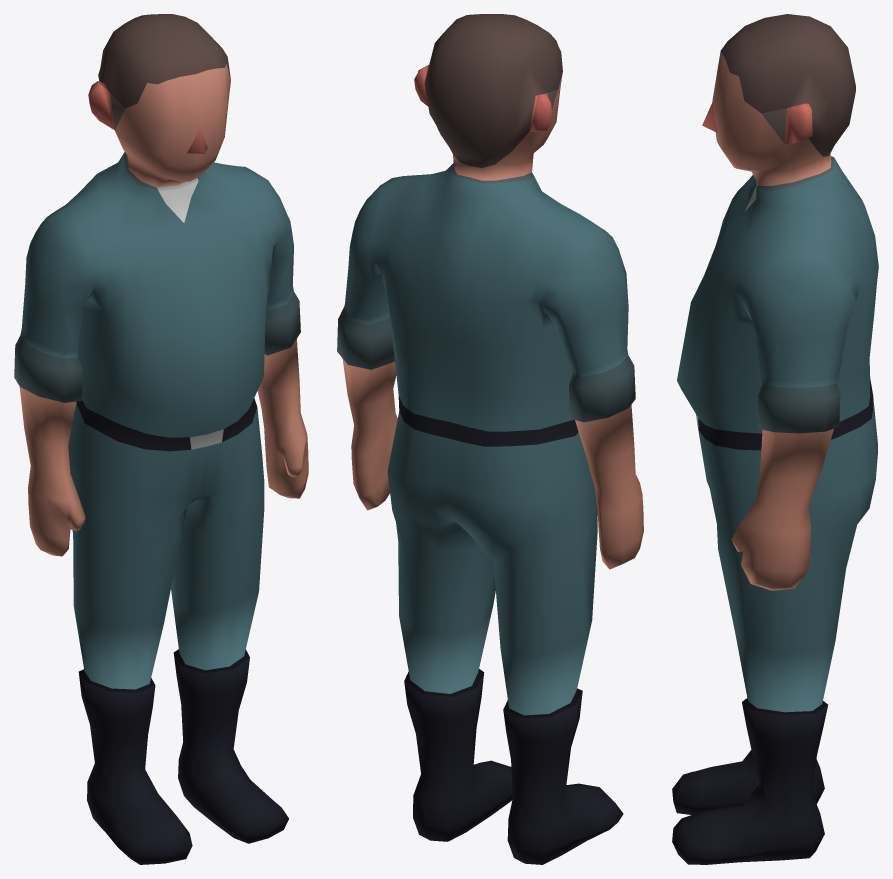
Rendered from CHAR_Worker.fbx.
3 views of the same model, side by side, from view 1: azimuth 30°, elevation 25°; view 2: azimuth 150°, elevation 25°; view 3: azimuth 270°, elevation 25° (orthographic). The views are drawn at different scales.
Visible parts, largest first — view 1: CHAR_Worker; view 2: CHAR_Worker; view 3: CHAR_Worker.
Part boxes in pixels (x1=…): CHAR_Worker: x1=14, y1=14, x2=308, y2=864; CHAR_Worker: x1=337, y1=14, x2=643, y2=864; CHAR_Worker: x1=672, y1=14, x2=878, y2=864.
Size of the model in its own units: 0.6649 by 1.83 by 0.4256.
